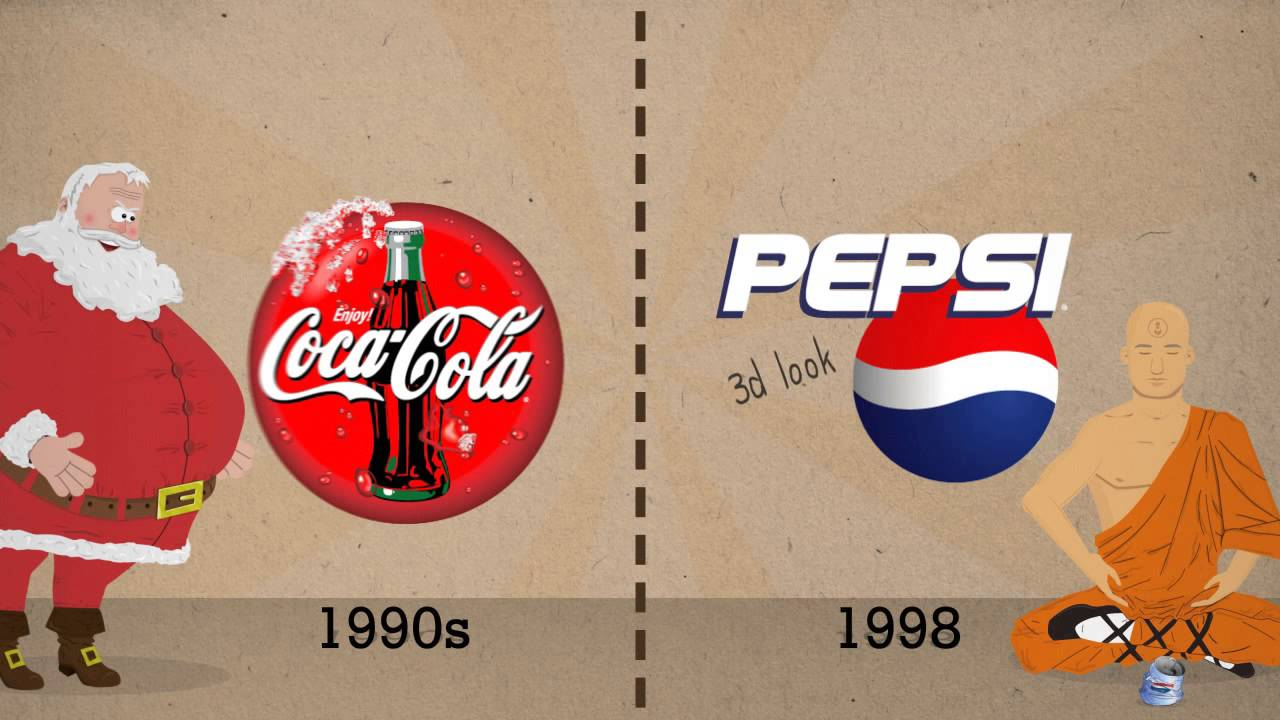pepsi: (852, 265, 1058, 482), (859, 265, 1058, 482), (852, 276, 1058, 482)
